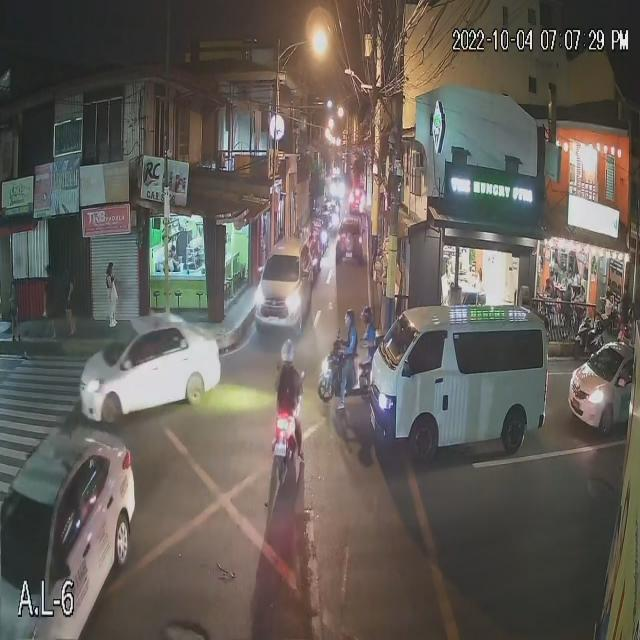helmet: (359, 302, 377, 328), (280, 339, 294, 362), (344, 305, 355, 331)
motorcycle: (317, 340, 373, 405), (266, 398, 303, 480)
rider: (274, 368, 305, 450), (334, 331, 359, 413), (353, 328, 377, 392)
